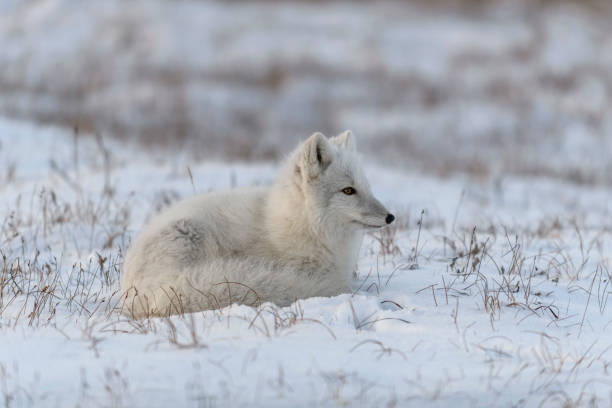arcticfox: (314, 146, 394, 242)
